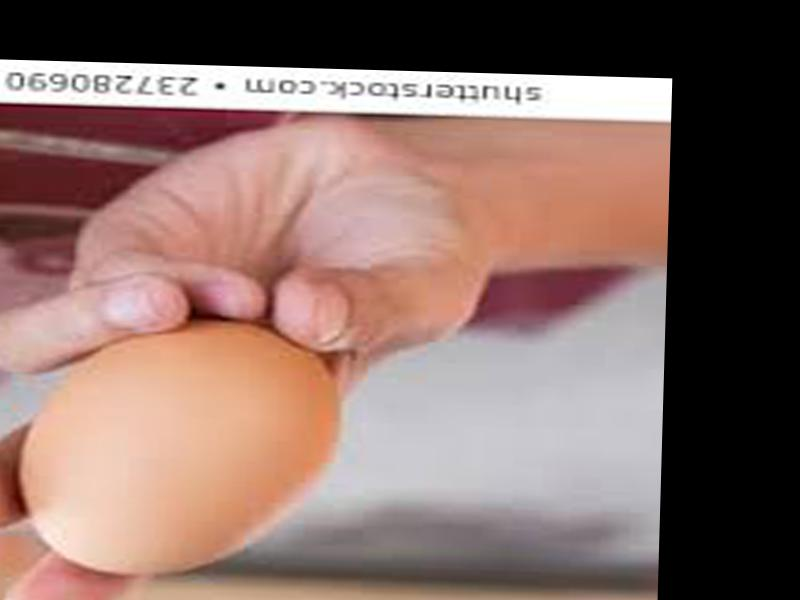Eggs: (13, 317, 338, 578)
